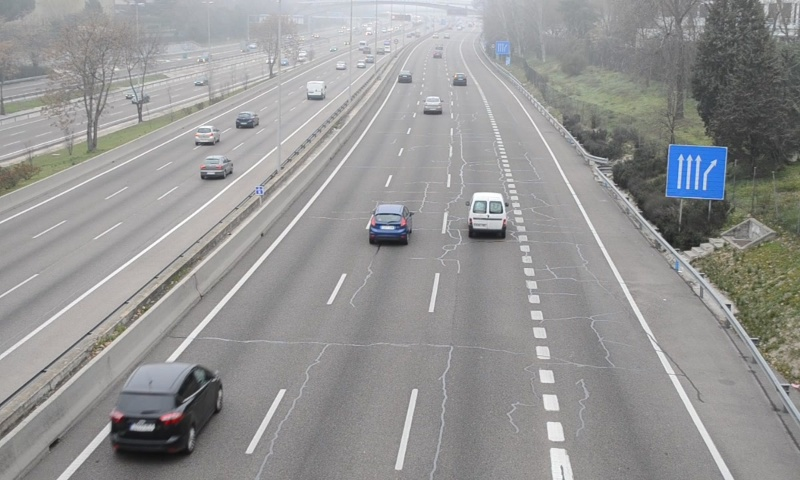car: (110, 364, 220, 448), (370, 205, 410, 243), (423, 96, 442, 115), (452, 72, 468, 87), (398, 68, 413, 84)
van: (468, 192, 507, 237)
